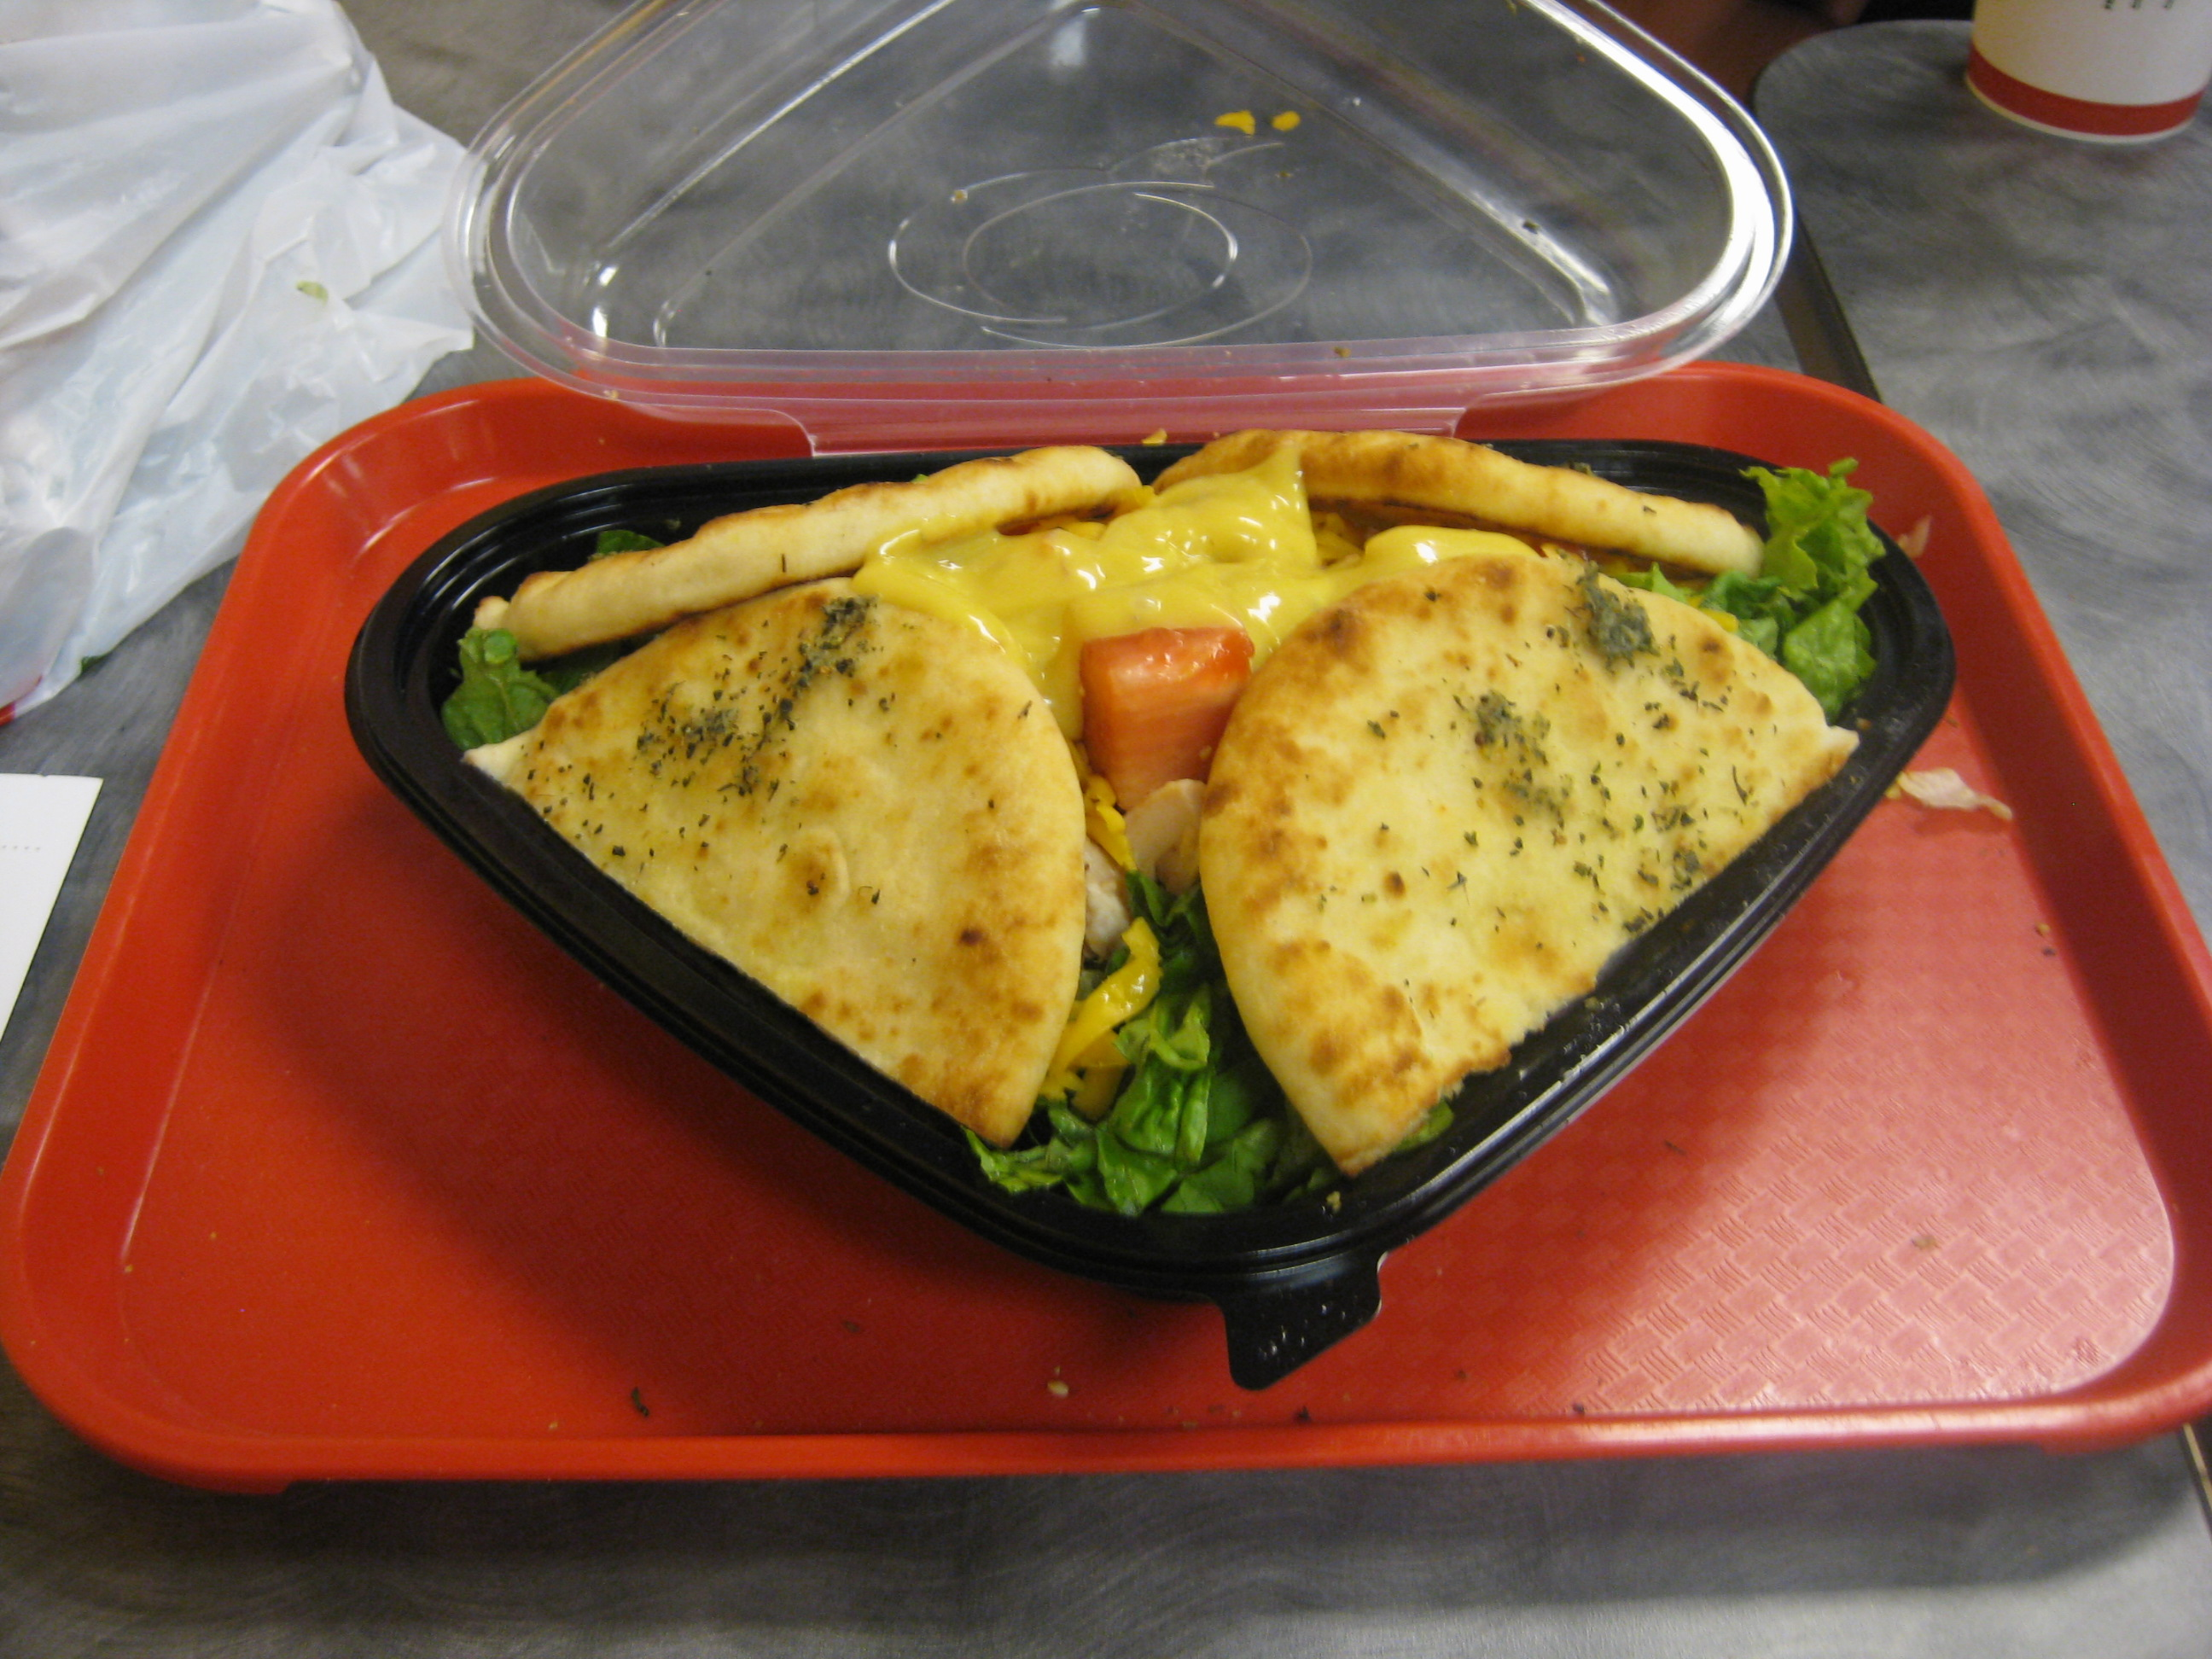burrito: (373, 370, 1919, 1201)
